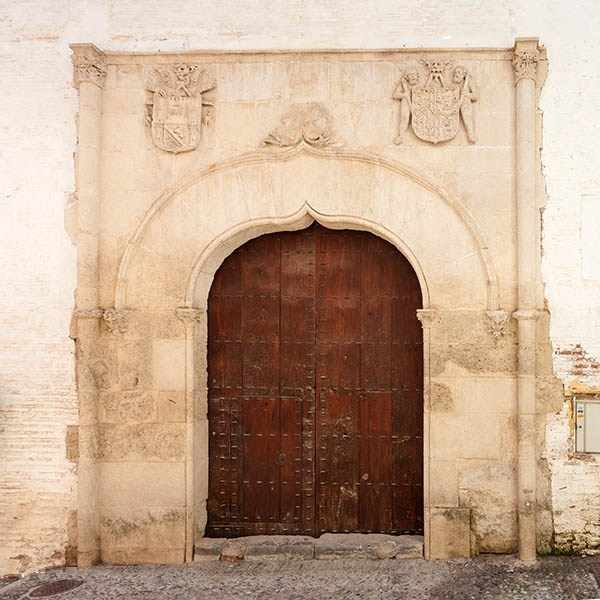arco-conopial: (197, 194, 419, 260)
